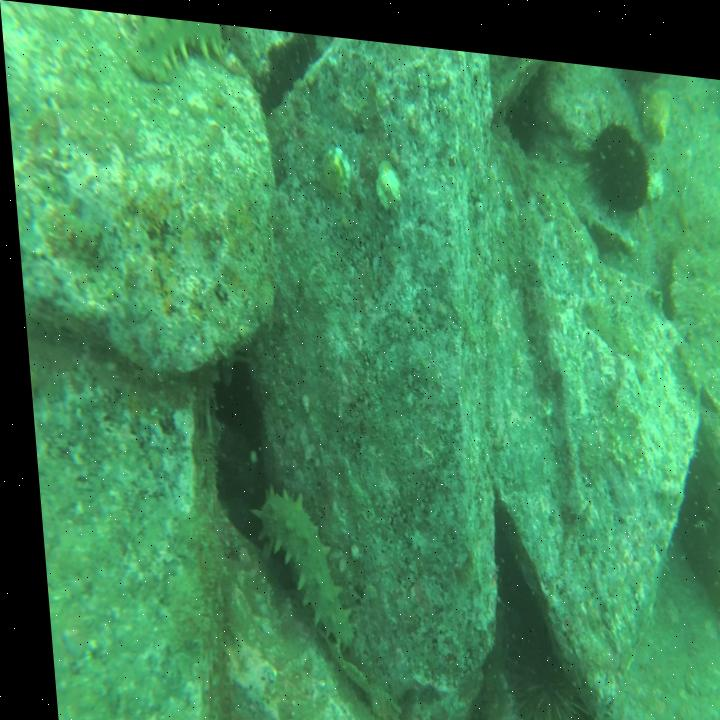echinus: (491, 601, 584, 720), (571, 91, 654, 208), (423, 697, 492, 720)
holothurian: (240, 468, 350, 647), (119, 10, 229, 81)
